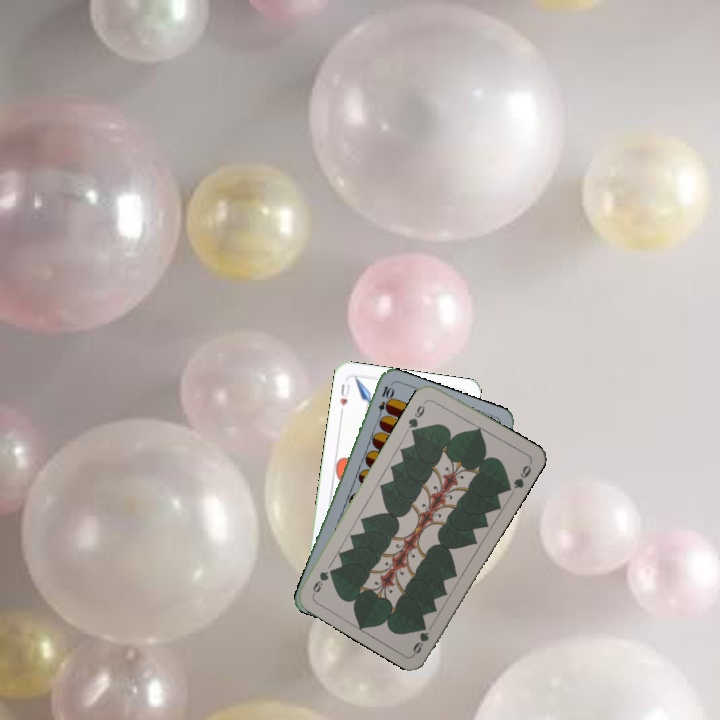E10: (373, 382, 395, 422)
G9: (404, 396, 429, 435), (409, 621, 432, 657)
HU: (336, 380, 353, 409)
